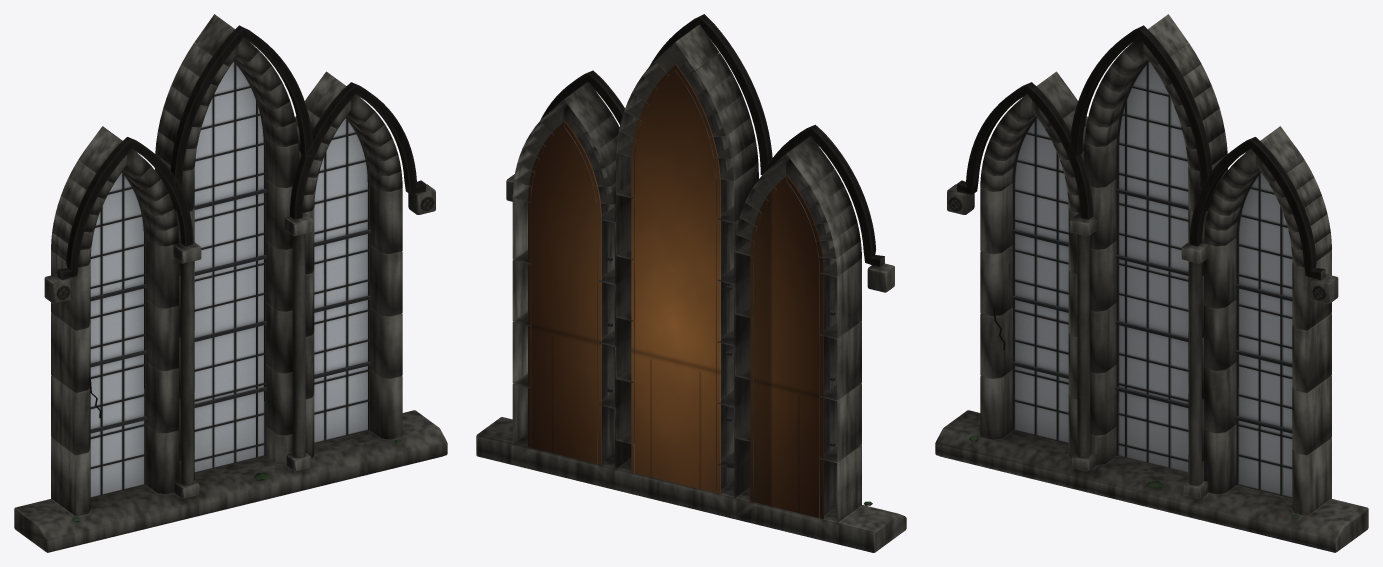
File: TripletLancet.fbx
3 renders of one model, left to right at view 1: azimuth 30°, elevation 25°; view 2: azimuth 150°, elevation 25°; view 3: azimuth 330°, elevation 25°, orthographic.
Parts seen in each view (by area): view 1: TripletLancet_Main, TripletLancet_Glass; view 2: TripletLancet_Room, TripletLancet_Main; view 3: TripletLancet_Main, TripletLancet_Glass.
Part boxes in pixels (x1,y1,x2,y2): TripletLancet_Main: (14,14,447,552); TripletLancet_Glass: (90,62,367,497); TripletLancet_Room: (528,64,823,518); TripletLancet_Main: (476,14,906,552); TripletLancet_Main: (935,14,1368,552); TripletLancet_Glass: (1015,62,1292,497).
Bounding box in the file's own units: 700 × 790 × 102.
